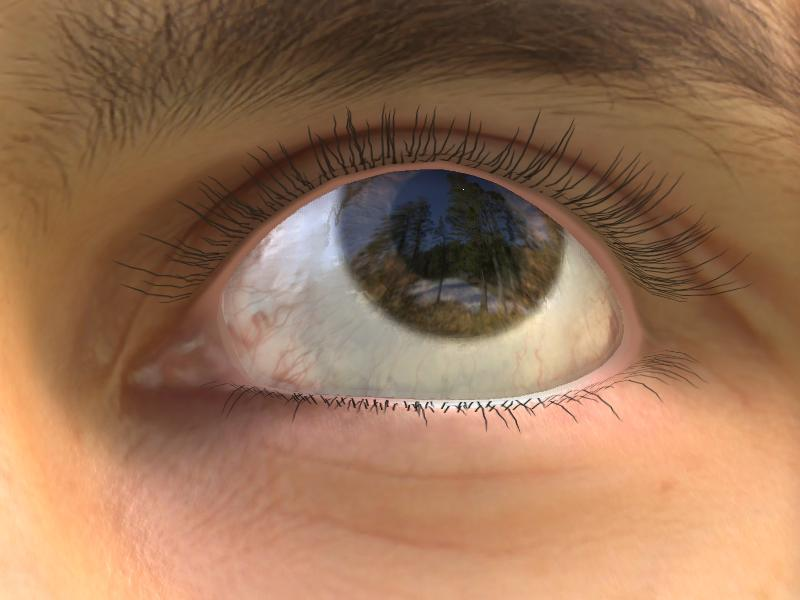eye: (337, 168, 566, 341)
